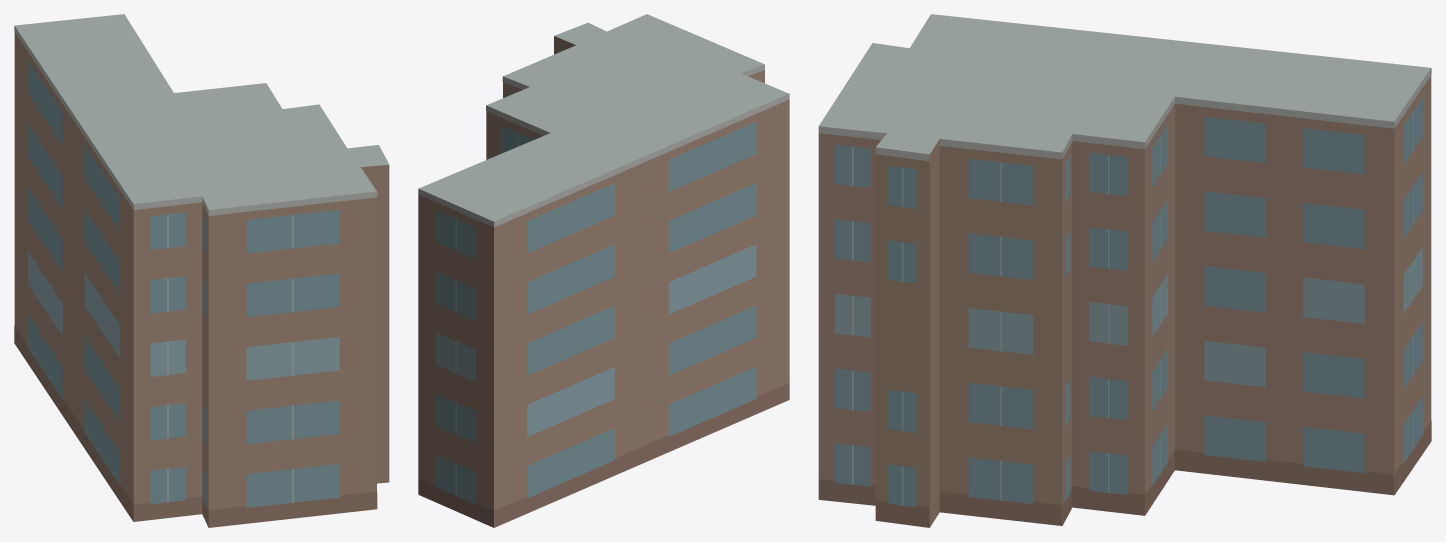
Rendered from survey-upis-33030341.glb.
The picture shows the model from 3 angles, left to right: view 1: azimuth 30°, elevation 25°; view 2: azimuth 150°, elevation 25°; view 3: azimuth 270°, elevation 25°; orthographic projection. The views are drawn at different scales.
Visible parts, largest first — view 1: survey-upis-33030341.tmp; view 2: survey-upis-33030341.tmp; view 3: survey-upis-33030341.tmp.
Boxes of the visible parts, left/top/right/bottom form: survey-upis-33030341.tmp: left=14, top=14, right=389, bottom=527; survey-upis-33030341.tmp: left=418, top=14, right=789, bottom=527; survey-upis-33030341.tmp: left=818, top=14, right=1431, bottom=527.
Size of the model in its own units: 10.66 by 13.2 by 19.64.
